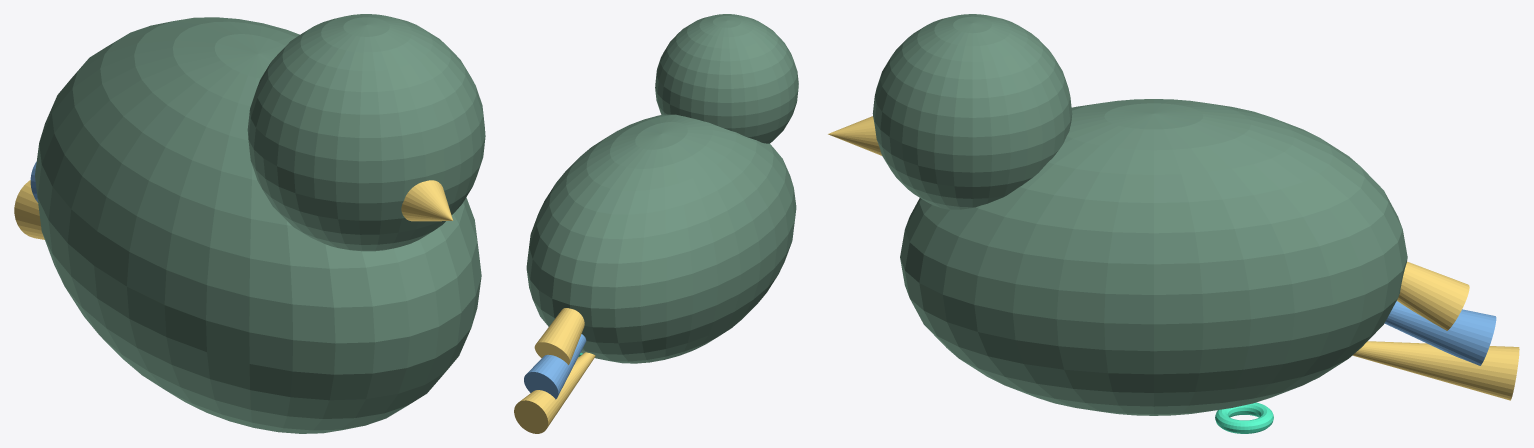
Rendered from cosmos-placeholder.glb.
3 renders of one model, left to right at view 1: azimuth 30°, elevation 25°; view 2: azimuth 150°, elevation 25°; view 3: azimuth 270°, elevation 25°, orthographic. The views are drawn at different scales.
Visible parts, largest first — view 1: Cosmos_Body, Cosmos_Head, Cosmos_Beak, Cosmos_Tail_2; view 2: Cosmos_Body, Cosmos_Head, Cosmos_Tail_2, Cosmos_Tail_0, Cosmos_Tail_1; view 3: Cosmos_Body, Cosmos_Head, Cosmos_Tail_2, Cosmos_Tail_1, Cosmos_Tail_0, Cosmos_Charm, Cosmos_Beak.
Boxes of the visible parts, x1,y1,x2,y2 form: Cosmos_Body: (35,17,481,433); Cosmos_Head: (247,14,485,251); Cosmos_Beak: (401,180,452,221); Cosmos_Tail_2: (14,180,44,239); Cosmos_Body: (526,114,796,363); Cosmos_Head: (655,14,798,143); Cosmos_Tail_2: (514,352,595,433); Cosmos_Tail_0: (534,308,584,364); Cosmos_Tail_1: (524,334,586,399); Cosmos_Body: (900,99,1407,415); Cosmos_Head: (872,14,1072,209); Cosmos_Tail_2: (1353,341,1519,400); Cosmos_Tail_1: (1384,301,1496,365); Cosmos_Tail_0: (1397,261,1469,330); Cosmos_Charm: (1215,402,1273,433); Cosmos_Beak: (828,116,881,155).
Bounding box in the file's own units: 0.7 × 0.92 × 1.53.
